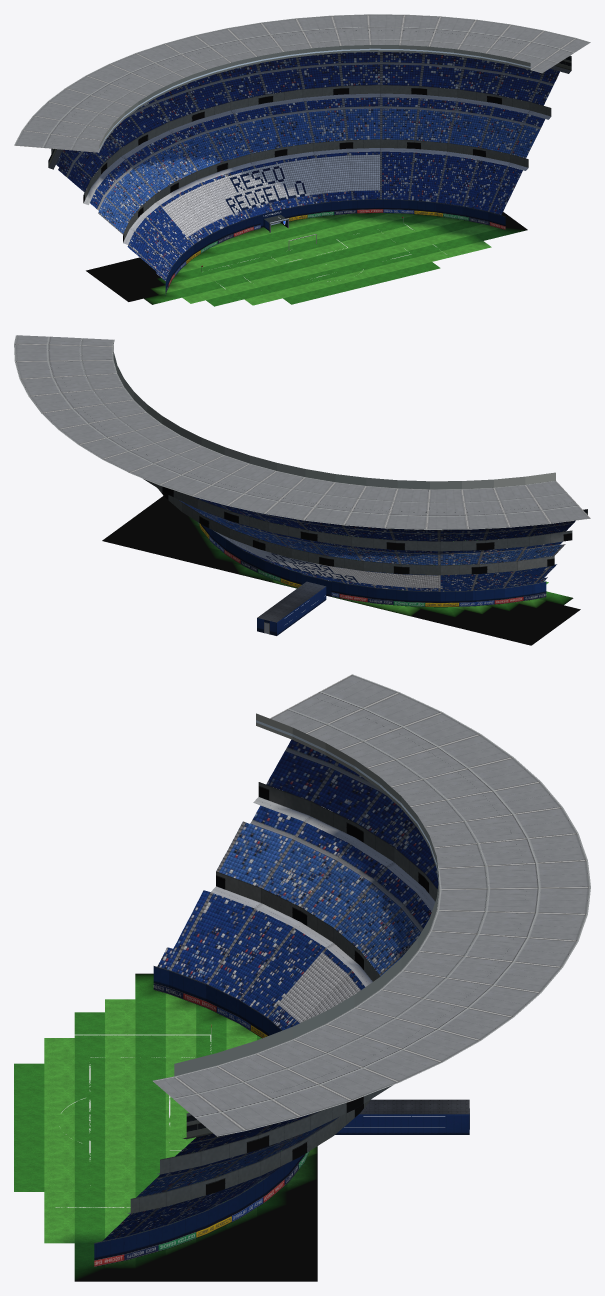
Rendered from tunnel_bassa.glb.
3 renders of one model, top to bottom at view 1: azimuth 30°, elevation 25°; view 2: azimuth 150°, elevation 25°; view 3: azimuth 270°, elevation 25°, orthographic. The views are drawn at different scales.
Visible parts, largest first — view 1: T_Esterno_Spalti, T_Esterno_Erba, T_Esterno_TettoSotto, T_Esterno_SpaltiNome, T_Esterno_Muro, T_Esterno_Cemento, T_Esterno_MuroBase, T_Esterno_TettoFascia, T_Esterno_Cartelloni, T_Esterno_TettoLed; view 2: T_Esterno_TettoSotto, T_Esterno_Spalti, T_Esterno_Erba, T_Esterno_Muro, T_Esterno_TettoFascia, T_Esterno_MuroBase, T_Esterno_SpaltiNome, T_Esterno_Cartelloni, T_Tunnel_Soffitto, T_Tunnel_Muro; view 3: T_Esterno_TettoSotto, T_Esterno_Erba, T_Esterno_Spalti, T_Esterno_Muro, T_Esterno_MuroBase, T_Esterno_TettoFascia, T_Esterno_SpaltiNome, T_Esterno_Cemento, T_Tunnel_Muro, T_Esterno_Cartelloni, T_Tunnel_Soffitto.
Part boxes in pixels (bbox=[...]): T_Esterno_Spalti: bbox=[56, 52, 559, 281]; T_Esterno_Erba: bbox=[86, 212, 527, 306]; T_Esterno_TettoSotto: bbox=[14, 14, 590, 152]; T_Esterno_SpaltiNome: bbox=[160, 151, 380, 244]; T_Esterno_Muro: bbox=[83, 85, 551, 242]; T_Esterno_Cemento: bbox=[48, 66, 571, 244]; T_Esterno_MuroBase: bbox=[165, 199, 505, 291]; T_Esterno_TettoFascia: bbox=[99, 45, 530, 151]; T_Esterno_Cartelloni: bbox=[165, 209, 505, 295]; T_Esterno_TettoLed: bbox=[99, 48, 530, 149]; T_Esterno_TettoSotto: bbox=[14, 335, 590, 529]; T_Esterno_Spalti: bbox=[179, 496, 575, 591]; T_Esterno_Erba: bbox=[102, 496, 580, 645]; T_Esterno_Muro: bbox=[143, 479, 572, 575]; T_Esterno_TettoFascia: bbox=[113, 343, 555, 489]; T_Esterno_MuroBase: bbox=[201, 524, 546, 602]; T_Esterno_SpaltiNome: bbox=[213, 530, 440, 591]; T_Esterno_Cartelloni: bbox=[198, 522, 546, 607]; T_Tunnel_Soffitto: bbox=[257, 581, 325, 622]; T_Tunnel_Muro: bbox=[257, 587, 326, 635]; T_Esterno_TettoSotto: bbox=[152, 674, 590, 1136]; T_Esterno_Erba: bbox=[14, 973, 317, 1281]; T_Esterno_Spalti: bbox=[102, 739, 438, 1241]; T_Esterno_Muro: bbox=[130, 782, 437, 1213]; T_Esterno_MuroBase: bbox=[94, 966, 305, 1259]; T_Esterno_TettoFascia: bbox=[174, 713, 438, 1076]; T_Esterno_SpaltiNome: bbox=[267, 948, 364, 1030]; T_Esterno_Cemento: bbox=[127, 797, 435, 1213]; T_Tunnel_Muro: bbox=[335, 1114, 469, 1134]; T_Esterno_Cartelloni: bbox=[94, 983, 309, 1266]; T_Tunnel_Soffitto: bbox=[359, 1099, 469, 1114].
Bounding box in the file's own units: 144 × 36.41 × 76.
37 materials, 15 textured.
